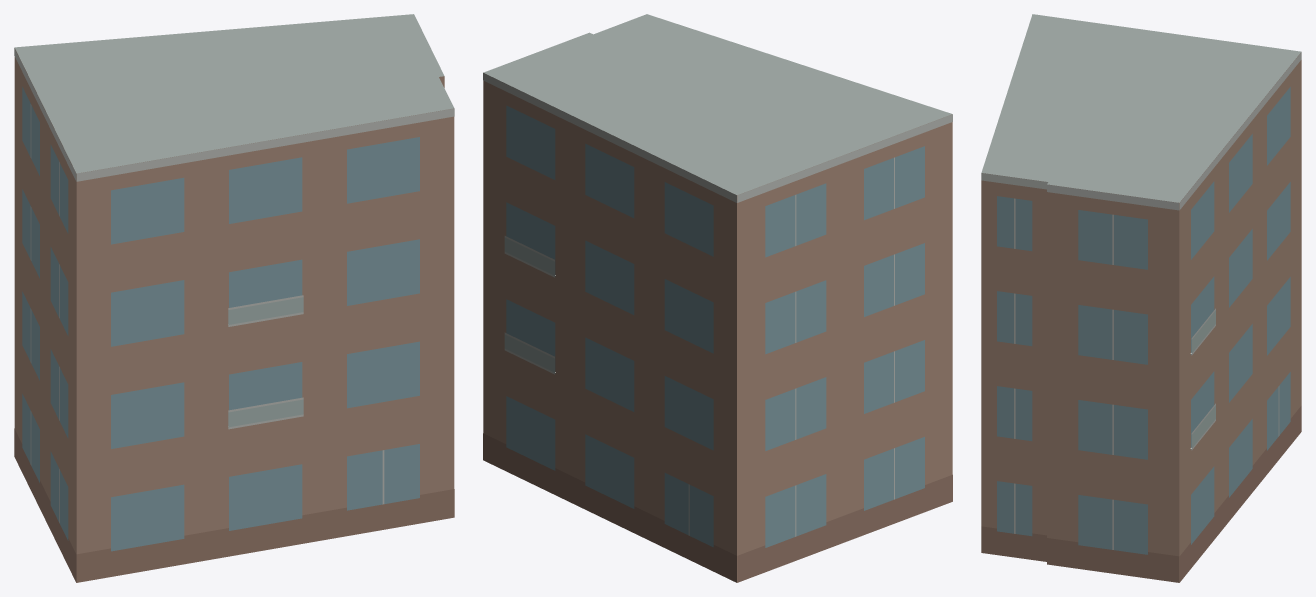
File: survey-upis-32872176.glb
3 views of the same model, side by side, from view 1: azimuth 30°, elevation 25°; view 2: azimuth 150°, elevation 25°; view 3: azimuth 270°, elevation 25° (orthographic). The views are drawn at different scales.
Visible parts, largest first — view 1: survey-upis-32872176.tmp; view 2: survey-upis-32872176.tmp; view 3: survey-upis-32872176.tmp.
Part boxes in pixels (x1,y1,x2,y2): survey-upis-32872176.tmp: (14,14,454,582); survey-upis-32872176.tmp: (483,14,952,582); survey-upis-32872176.tmp: (981,14,1301,582).
Size of the model in its own units: 12.96 by 12.15 by 9.29.
